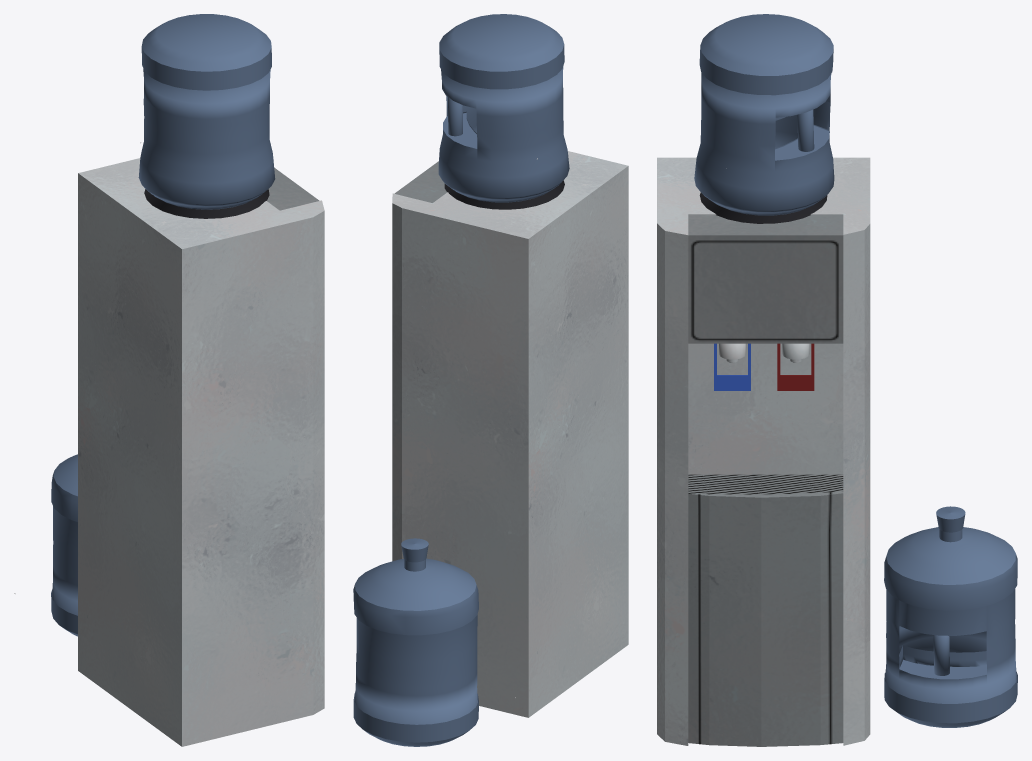
Rendered from Fontain.fbx.
3 renders of one model, left to right at view 1: azimuth 30°, elevation 25°; view 2: azimuth 150°, elevation 25°; view 3: azimuth 270°, elevation 25°, orthographic. The views are drawn at different scales.
Parts seen in each view (by area): view 1: Fontain, Bouteille; view 2: Fontain, Bouteille; view 3: Fontain, Bouteille.
Part boxes in pixels (box(x1,y1,x2,y2)): Fontain: box(78, 14, 324, 746); Bouteille: box(14, 454, 77, 636); Fontain: box(392, 14, 628, 717); Bouteille: box(353, 538, 515, 746); Fontain: box(657, 14, 870, 746); Bouteille: box(884, 506, 1017, 727).
Size of the model in its own units: 54.62 by 185 by 90.17.
Materials: 1 (1 with a texture image).
